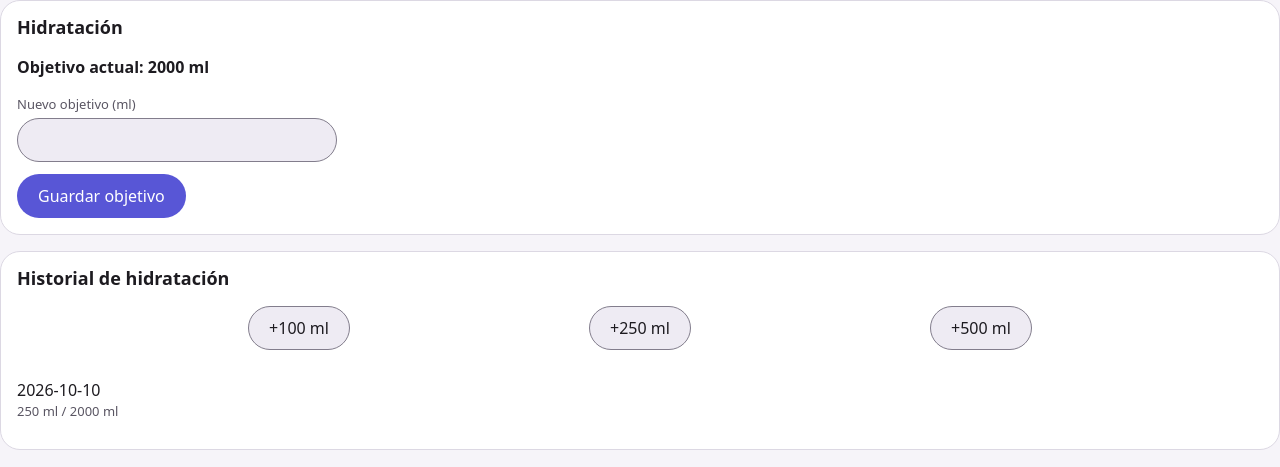
Test: NutritionPageComponent › should update the history after a quick log, without reloading the page
Click the button "+250 ml" at (640, 328), box [589,306,691,350]
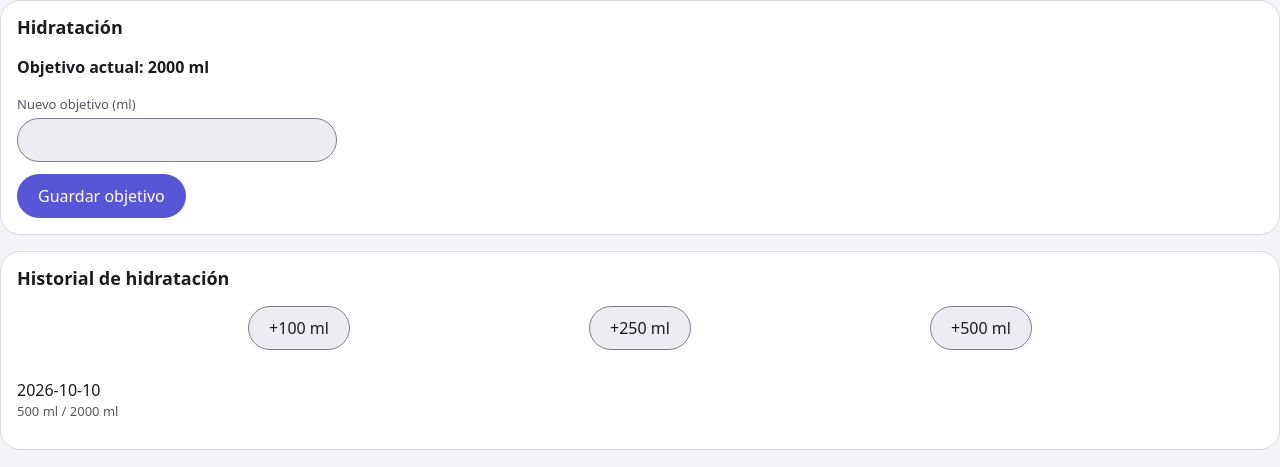
Expected: the text "500 ml / 2000 ml" is shown, [17,402,118,420]
